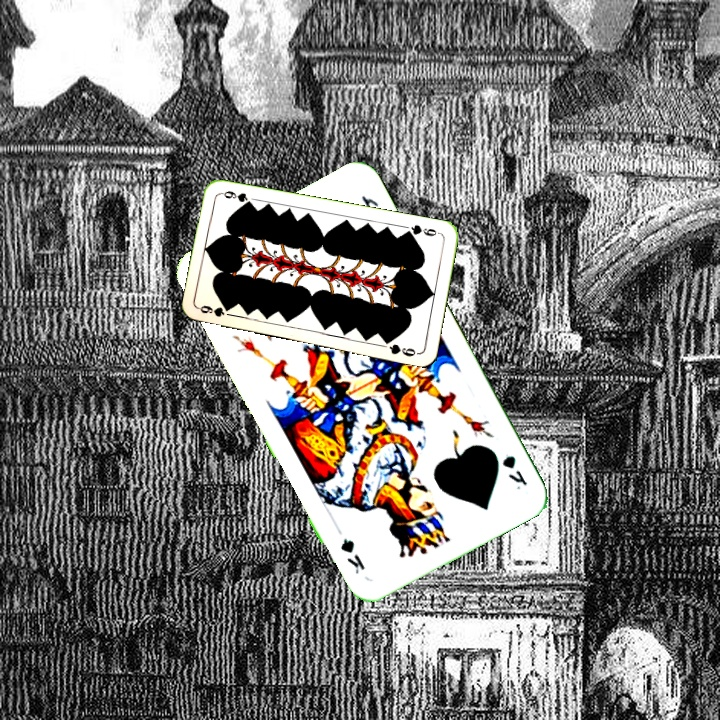G9: (402, 221, 443, 239), (196, 302, 236, 320)
GK: (498, 451, 530, 492)
